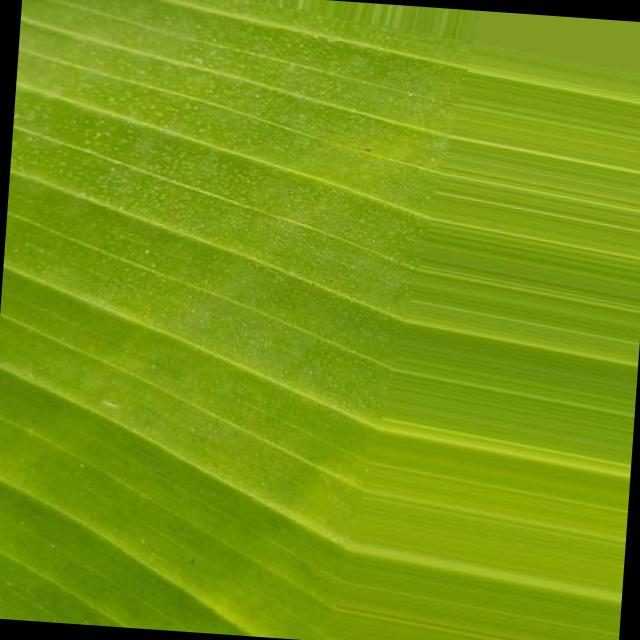Banana_Healthy: (127, 124, 495, 519)
